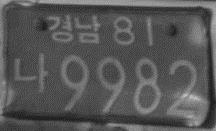1: (143, 14, 156, 48)
2: (165, 57, 198, 119)
8: (131, 55, 162, 116), (112, 15, 135, 46)
9: (58, 53, 90, 114), (96, 54, 127, 116)
경남_O: (45, 13, 102, 46)
나: (12, 51, 51, 94)
